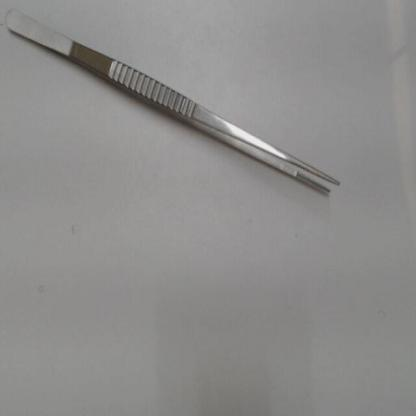DeBakey Dissector: (1, 4, 350, 212)
